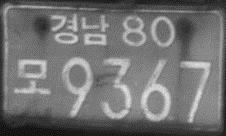0: (148, 13, 176, 49)
3: (99, 56, 133, 120)
6: (139, 56, 172, 124)
7: (176, 58, 213, 126)
8: (121, 12, 147, 49)
9: (60, 55, 94, 120)
경남_O: (49, 13, 110, 47)
모: (11, 56, 52, 97)
